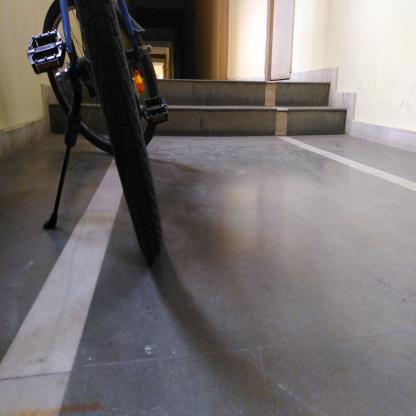stairs: (174, 80, 330, 140)
